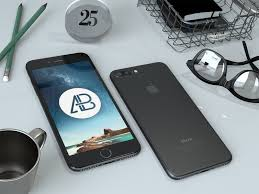Cell Phone: (26, 57, 133, 170)
